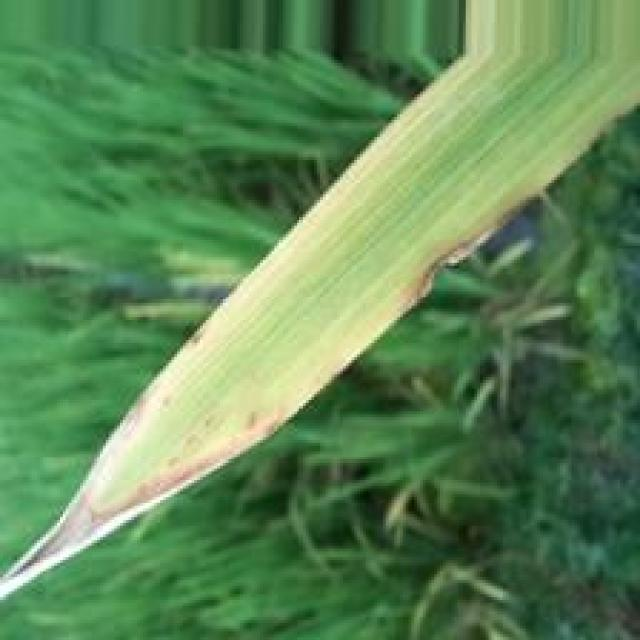Rice False Smut: (22, 389, 280, 580)
